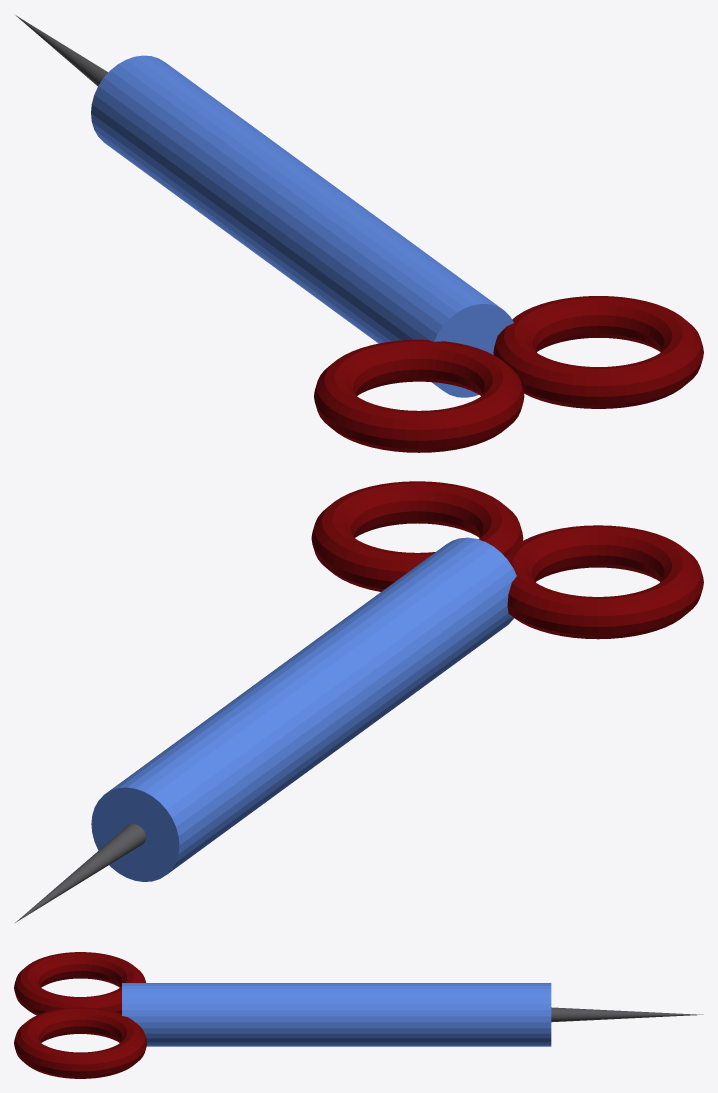
File: syringe.fbx
3 renders of one model, top to bottom at view 1: azimuth 30°, elevation 25°; view 2: azimuth 150°, elevation 25°; view 3: azimuth 270°, elevation 25°, orthographic. The views are drawn at different scales.
Parts seen in each view (by area): view 1: Cylinder, Torus, Torus.001, Cone; view 2: Cylinder, Torus, Torus.001, Cone; view 3: Cylinder, Torus.001, Torus, Cone.
Part boxes in pixels (box(x1,y1,x2,y2)): Cylinder: box(91, 55, 513, 397); Torus: box(314, 339, 524, 452); Torus.001: box(493, 296, 703, 408); Cone: box(14, 14, 107, 86); Cylinder: box(91, 537, 516, 881); Torus: box(504, 525, 703, 639); Torus.001: box(311, 481, 523, 591); Cone: box(15, 824, 146, 922); Cylinder: box(122, 983, 551, 1046); Torus.001: box(14, 1007, 146, 1078); Torus: box(14, 952, 145, 1015); Cone: box(551, 1007, 703, 1022).
Bounding box in the file's own units: 24.81 × 6 × 64.76.
